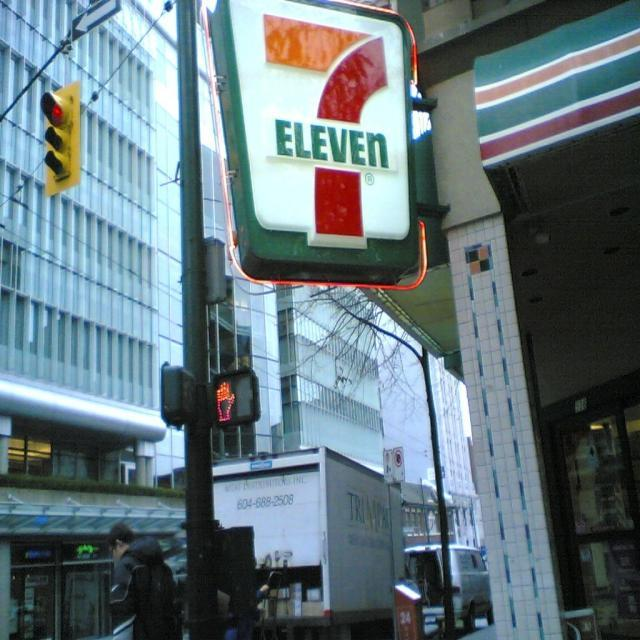traffic light: (211, 366, 260, 424), (42, 91, 72, 184)
